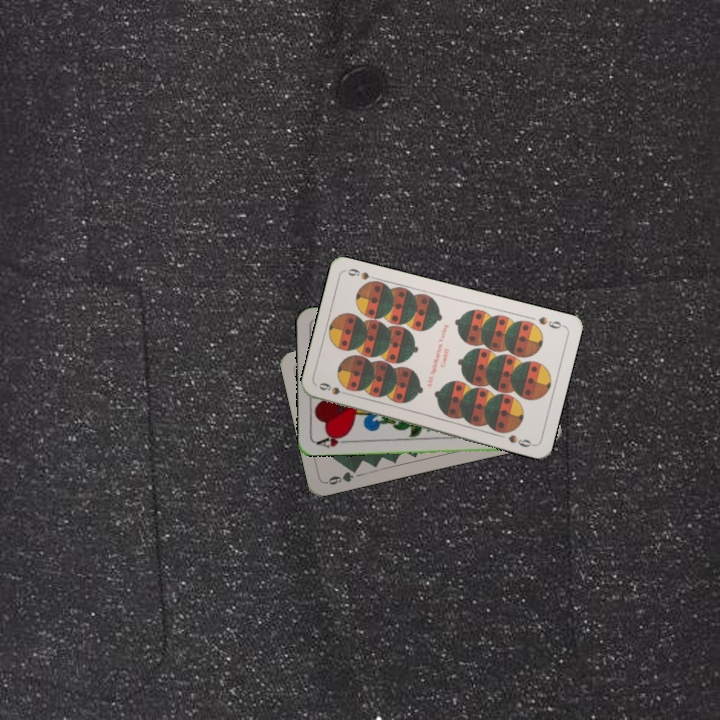G9: (322, 464, 360, 487)
HA: (312, 431, 353, 451)
S9: (315, 379, 355, 399), (534, 312, 567, 331)
